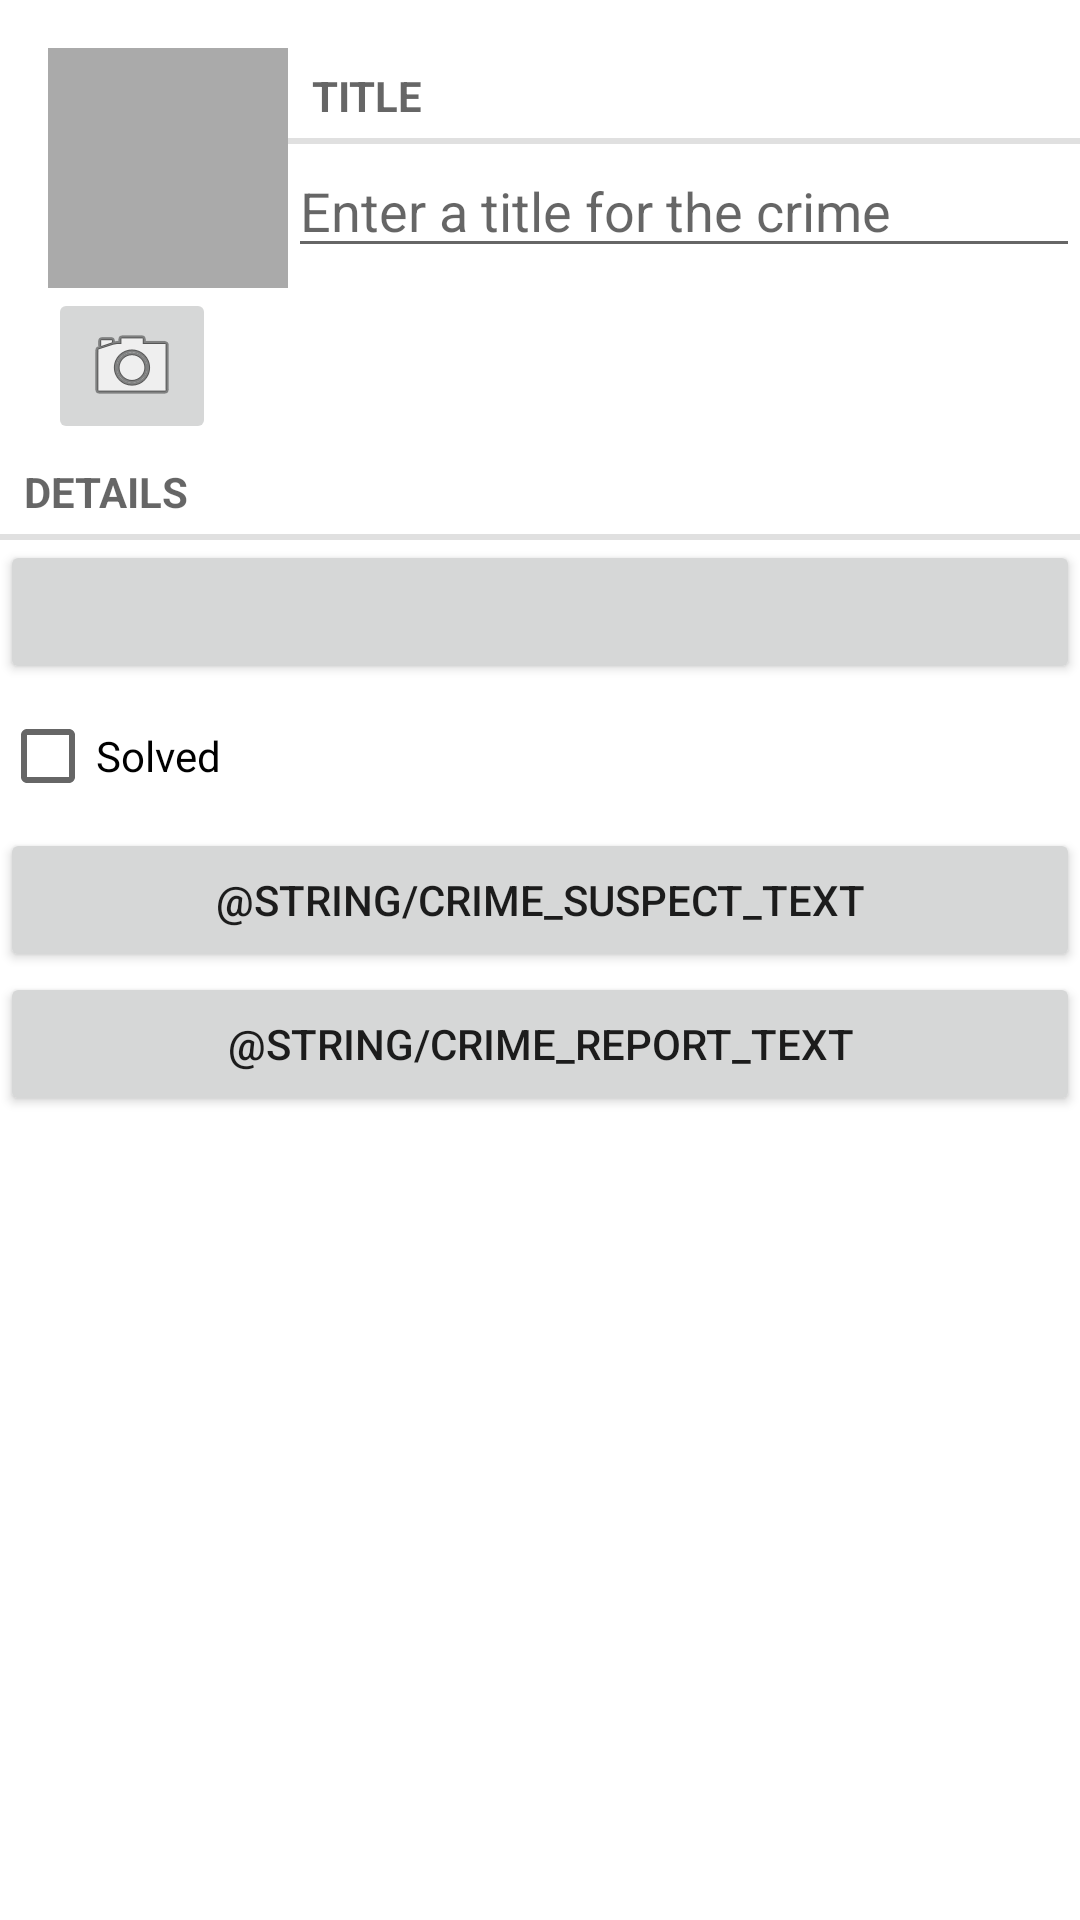

Where icons sit on this 1080px×1920px app screen, as bbox=[x1, y1, x2, y2]:
camera: bbox=[60, 306, 204, 426]
